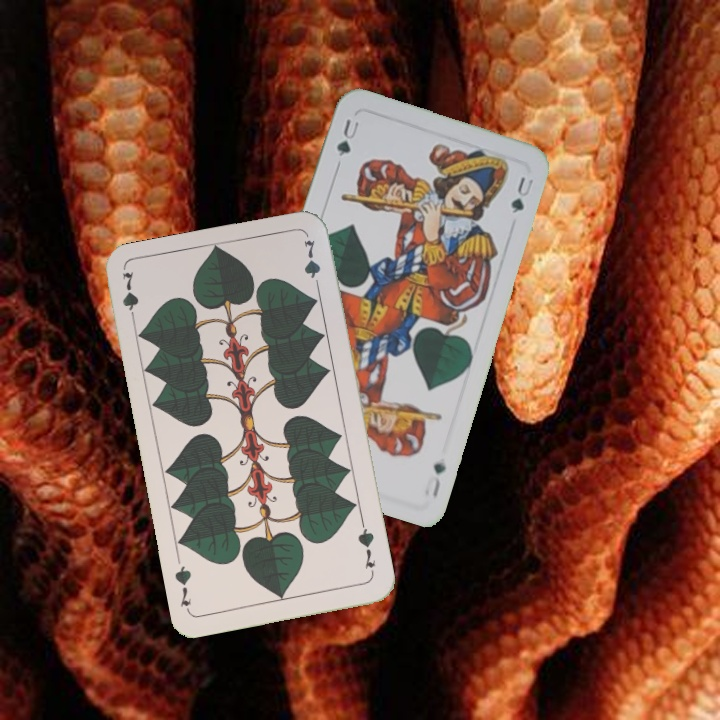G7: (353, 519, 379, 578), (118, 267, 142, 328)
GU: (332, 115, 364, 159), (420, 458, 448, 502)
